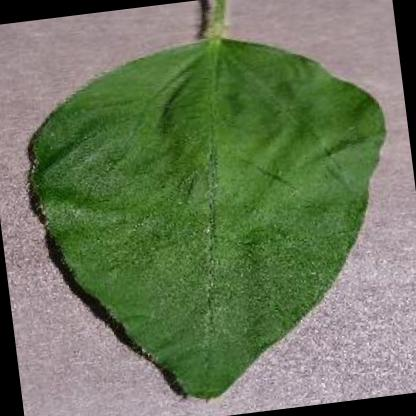soy: (1, 0, 414, 416)
